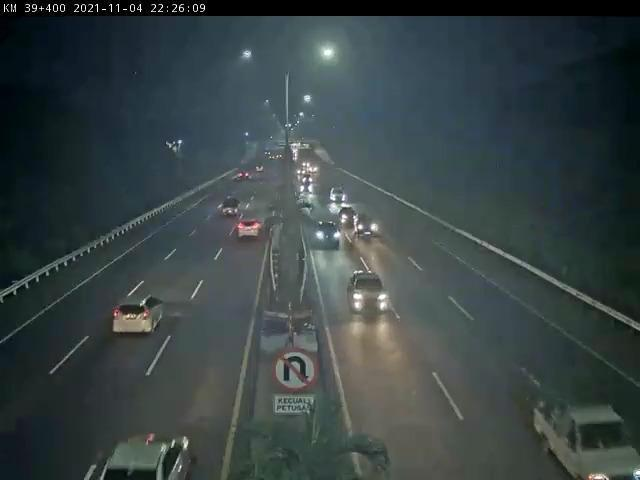car: (524, 379, 640, 480), (100, 411, 203, 480), (107, 279, 173, 347), (343, 260, 396, 315), (312, 216, 346, 248), (233, 212, 266, 244), (354, 213, 389, 243), (216, 199, 258, 219), (329, 186, 357, 206)
